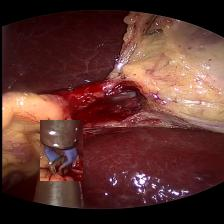Bipolar: (39, 120, 82, 181)
